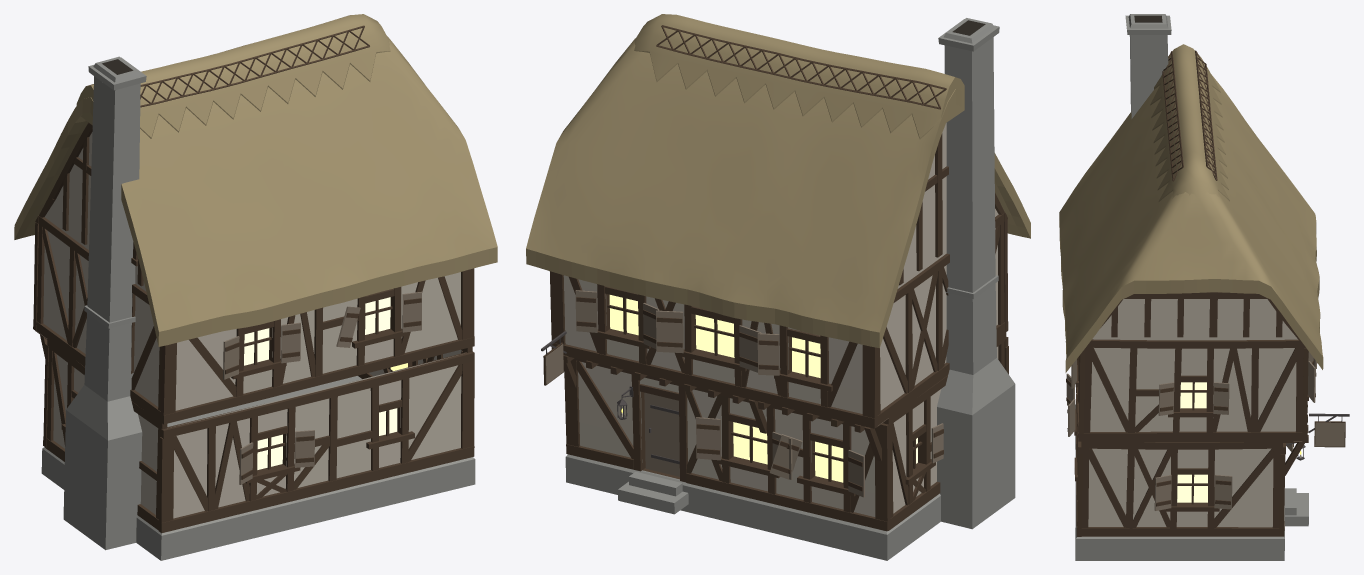
Rendered from house_a.glb.
3 views of the same model, side by side, from view 1: azimuth 30°, elevation 25°; view 2: azimuth 150°, elevation 25°; view 3: azimuth 270°, elevation 25° (orthographic). The views are drawn at different scales.
Visible parts, largest first — view 1: house_a, window_11, window_10, window_3; view 2: house_a, window_8, window_1, window_2, window_9, window_7; view 3: house_a, window_5, window_12.
Part boxes in pixels (x1,y1,x2,y2): house_a: (14,14,497,560); window_11: (365,297,390,334); window_10: (244,328,269,365); window_3: (257,434,282,469); house_a: (526,14,1030,560); window_8: (695,315,734,357); window_1: (733,422,767,464); window_2: (815,441,843,482); window_9: (792,337,820,377); window_7: (609,295,638,335); house_a: (1059,14,1349,560); window_5: (1177,474,1207,502); window_12: (1180,382,1206,408).
Bounding box in the file's own units: 9.48 × 11.58 × 7.5.
